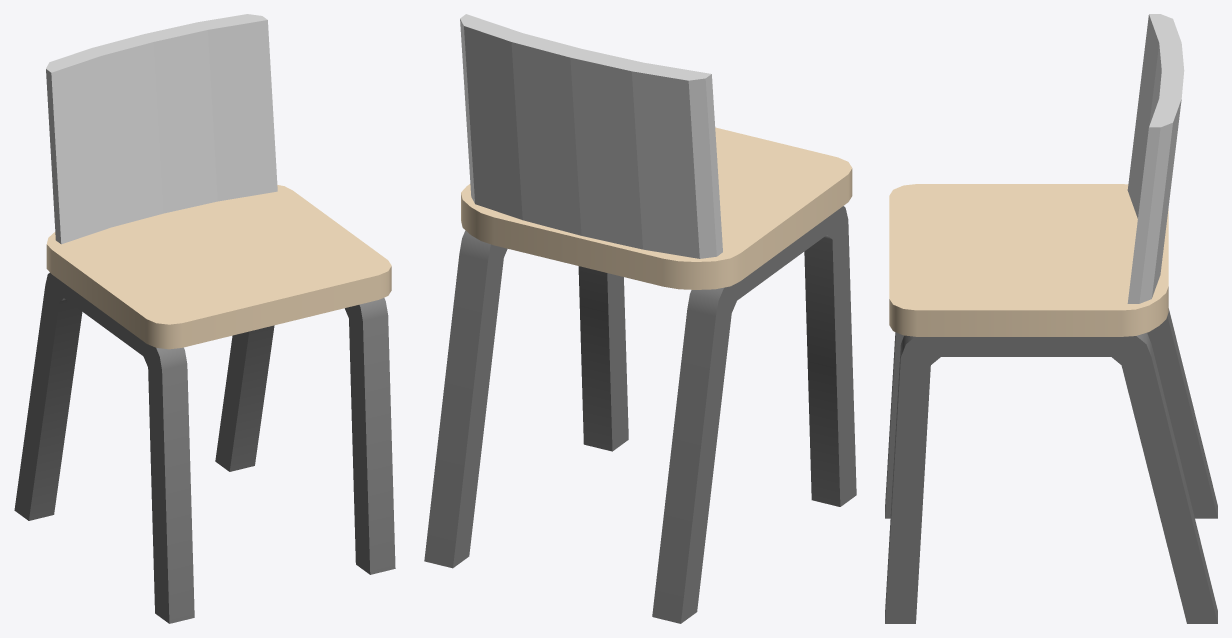
File: chair-a.glb
3 renders of one model, left to right at view 1: azimuth 30°, elevation 25°; view 2: azimuth 150°, elevation 25°; view 3: azimuth 270°, elevation 25°, orthographic. The views are drawn at different scales.
Parts seen in each view (by area): view 1: Chair_A; view 2: Chair_A; view 3: Chair_A.
Part boxes in pixels (box(x1,y1,x2,y2)): Chair_A: box(14, 14, 395, 623); Chair_A: box(424, 14, 856, 623); Chair_A: box(885, 14, 1217, 623).
Size of the model in its own units: 0.611 by 1.11 by 0.6791.
Materials: 1 (1 with a texture image).
